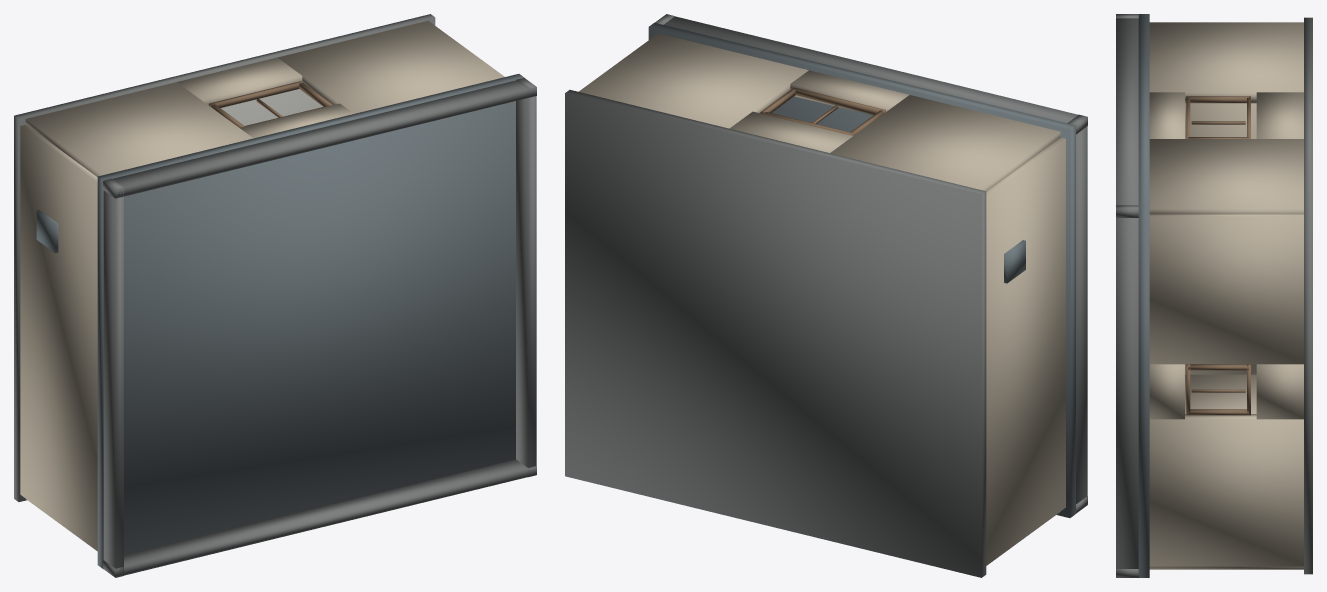
Rendered from house_small.glb.
The picture shows the model from 3 angles, left to right: view 1: azimuth 30°, elevation 25°; view 2: azimuth 150°, elevation 25°; view 3: azimuth 270°, elevation 25°; orthographic projection. The views are drawn at different scales.
Visible parts, largest first — view 1: house_small; view 2: house_small; view 3: house_small.
Part boxes in pixels (x1=…): house_small: x1=14, y1=14, x2=536, y2=577; house_small: x1=565, y1=14, x2=1087, y2=577; house_small: x1=1116, y1=14, x2=1312, y2=577.
Bounding box in the file's own units: 8.38 × 7.38 × 3.57.
